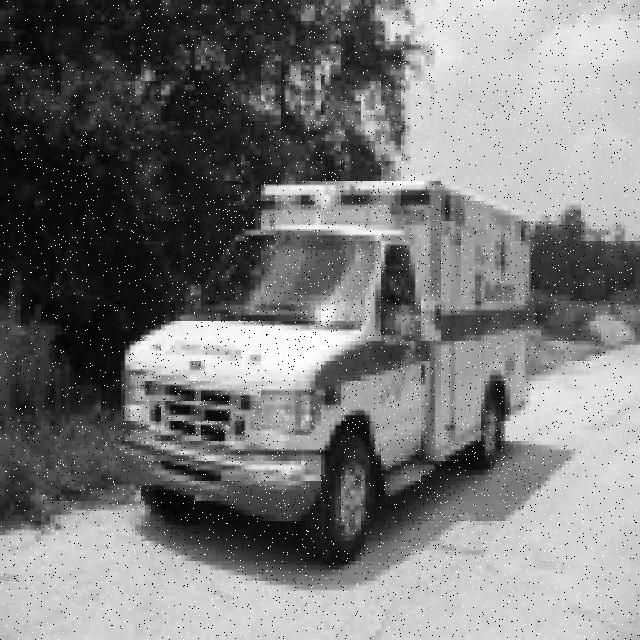Ambulance: (120, 176, 534, 568)
